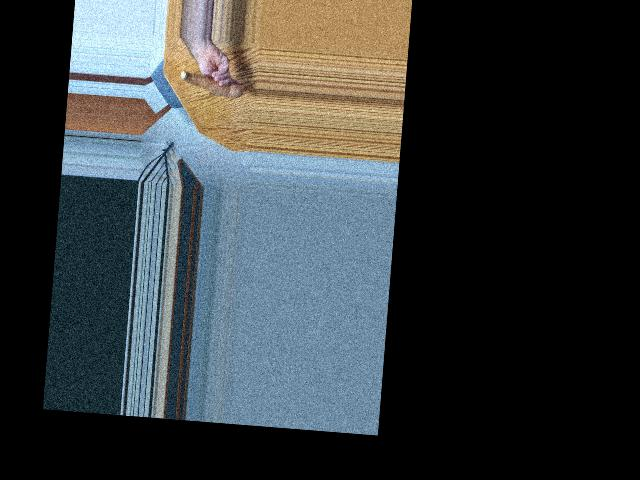sweet_potato: (181, 68, 241, 101)
